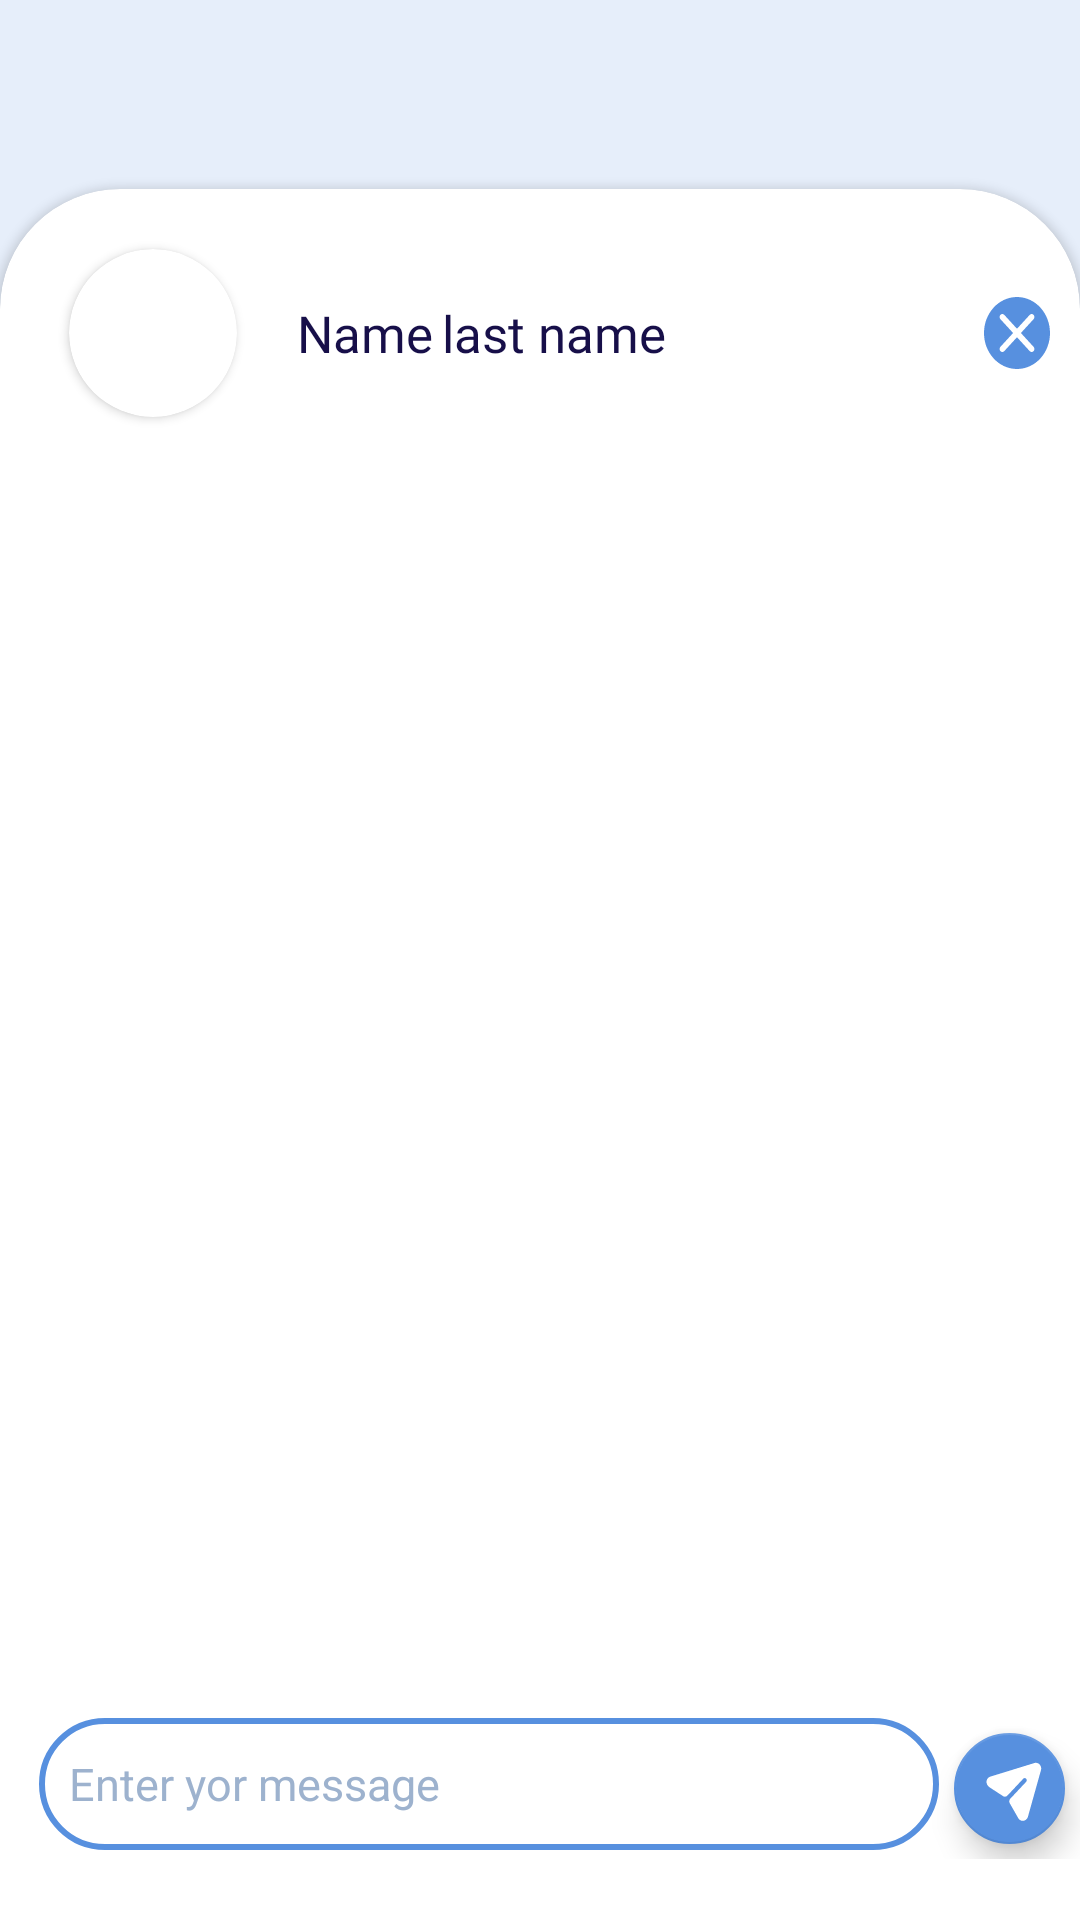

Icons on this 1080×1920 Android screen, each with its box as (x1, y1, x2, y2):
exit: (984, 297, 1050, 369)
sent: (954, 1733, 1065, 1844)
